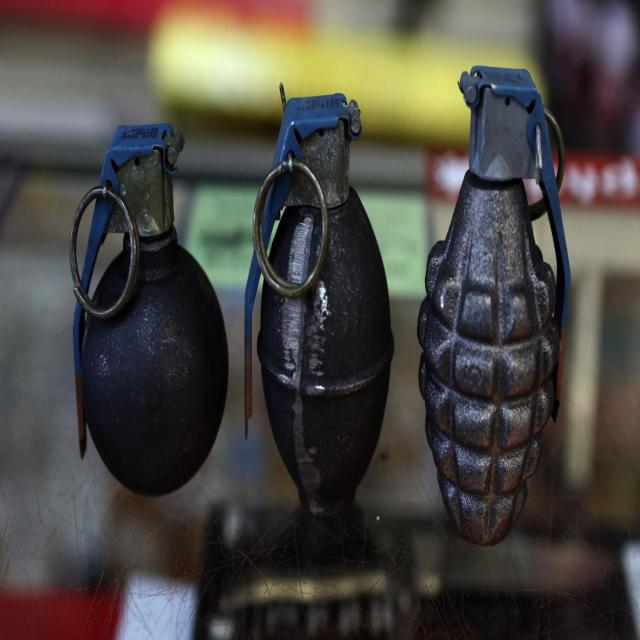grenade: (418, 66, 571, 549), (244, 84, 396, 522), (71, 125, 230, 496)
